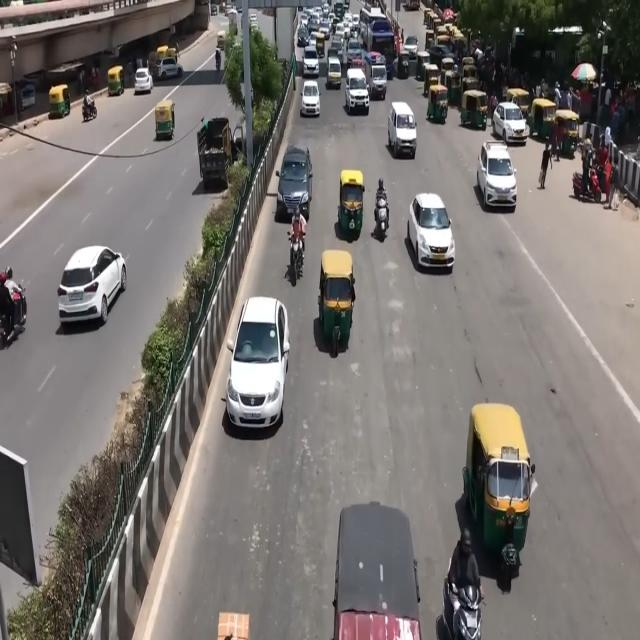auto: (466, 402, 534, 556), (318, 248, 354, 350), (337, 167, 365, 236), (553, 109, 581, 158), (528, 97, 556, 145), (461, 88, 488, 130), (428, 82, 450, 124), (155, 100, 176, 140), (505, 87, 531, 119), (48, 84, 70, 120), (444, 68, 462, 106), (424, 63, 440, 98), (107, 66, 125, 97), (314, 32, 326, 58), (217, 32, 226, 50)
bike-auto: (446, 528, 484, 636), (0, 272, 27, 344), (573, 166, 601, 203), (287, 229, 305, 286), (375, 178, 389, 228), (82, 97, 97, 122), (215, 54, 221, 70)
